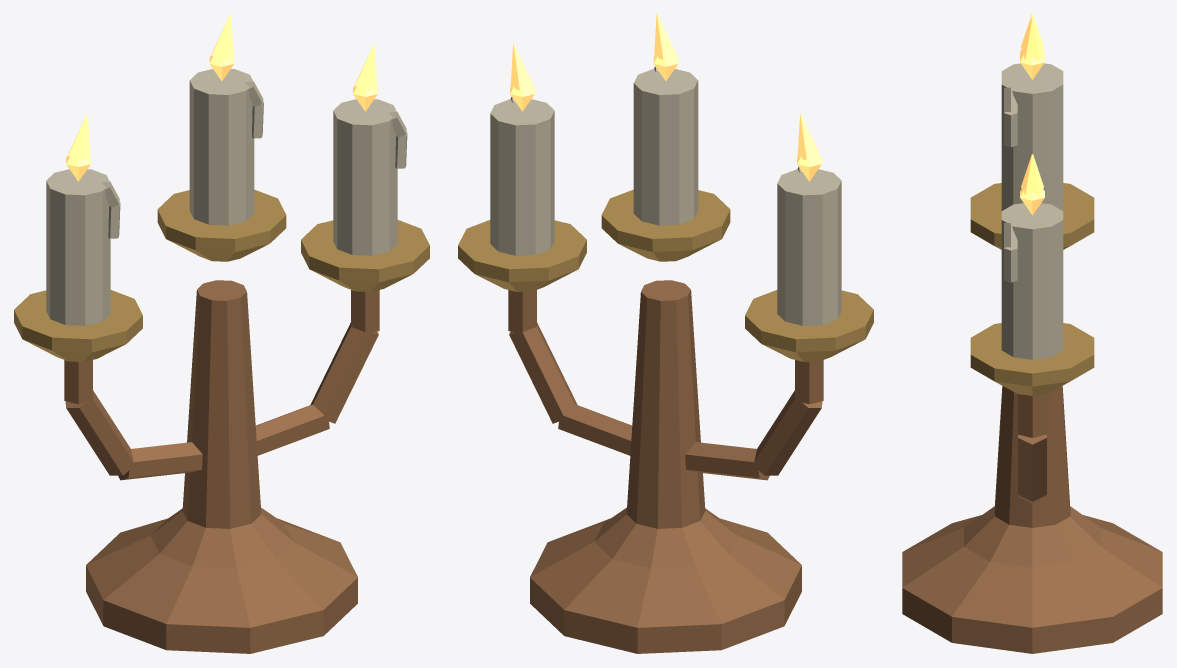
File: decor_candelabra.glb
3 views of the same model, side by side, from view 1: azimuth 30°, elevation 25°; view 2: azimuth 150°, elevation 25°; view 3: azimuth 270°, elevation 25° (orthographic).
Visible parts, largest first — view 1: geometry, light; view 2: geometry, light; view 3: geometry, light.
Part boxes in pixels (x1,y1,x2,y2): geometry: (14,69,429,653); light: (66,14,377,181); geometry: (458,66,873,653); light: (510,14,821,181); geometry: (902,63,1162,653); light: (1020,14,1044,215).
Bounding box in the file's own units: 0.64 × 0.8902 × 0.3614.
